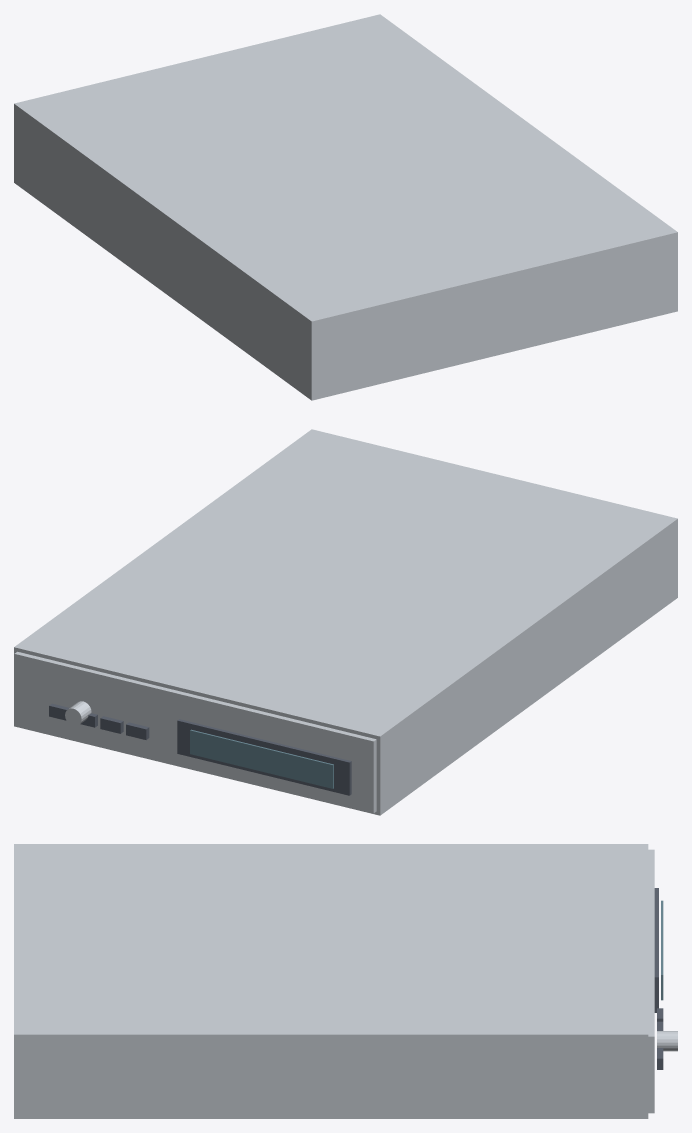
File: wst-head-interface-new.glb
3 renders of one model, top to bottom at view 1: azimuth 30°, elevation 25°; view 2: azimuth 150°, elevation 25°; view 3: azimuth 270°, elevation 25°, orthographic. The views are drawn at different scales.
Parts seen in each view (by area): view 1: silver enclosure; view 2: silver enclosure, front panel, screen glass, black display bezel; view 3: silver enclosure, front panel, black display bezel.
Boxes of the visible parts, bbox=[...] form: silver enclosure: bbox=[14, 14, 677, 400]; silver enclosure: bbox=[14, 429, 677, 815]; front panel: bbox=[14, 651, 376, 813]; screen glass: bbox=[190, 729, 333, 788]; black display bezel: bbox=[177, 719, 351, 795]; silver enclosure: bbox=[14, 844, 648, 1118]; front panel: bbox=[648, 849, 654, 1113]; black display bezel: bbox=[654, 888, 658, 1012].
Bounding box in the file's own units: 0.213 × 0.052 × 0.314.
